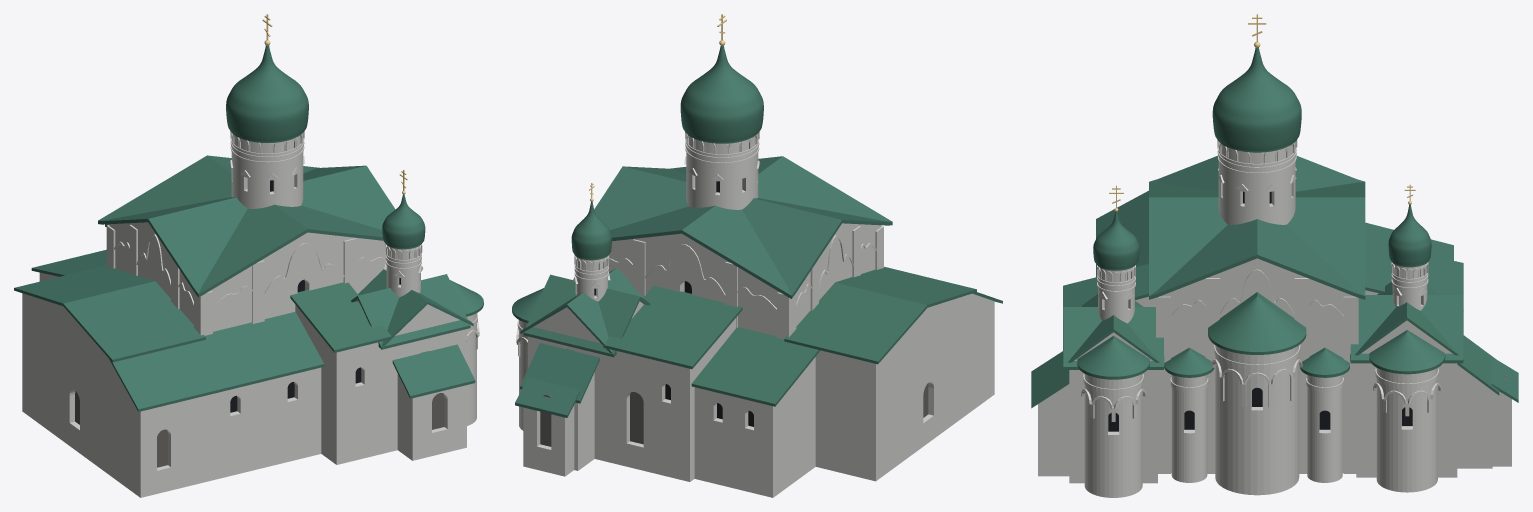
Rendered from SM_Bogoyavlenie.glb.
3 renders of one model, left to right at view 1: azimuth 30°, elevation 25°; view 2: azimuth 150°, elevation 25°; view 3: azimuth 270°, elevation 25°, orthographic. The views are drawn at different scales.
Parts seen in each view (by area): view 1: SM_Bogoyavlenie; view 2: SM_Bogoyavlenie; view 3: SM_Bogoyavlenie.
Part boxes in pixels (box(x1,y1,x2,y2)): SM_Bogoyavlenie: box(14, 14, 483, 497); SM_Bogoyavlenie: box(512, 14, 1002, 497); SM_Bogoyavlenie: box(1031, 14, 1518, 497).
Bounding box in the file's own units: 26.85 × 28.09 × 30.2.
